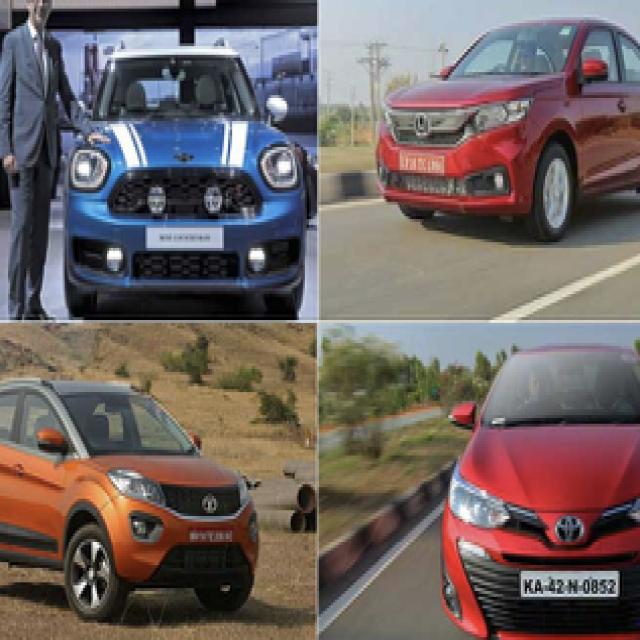license_plate: (519, 565, 628, 617), (394, 138, 456, 194), (151, 228, 214, 251), (182, 528, 238, 550)
